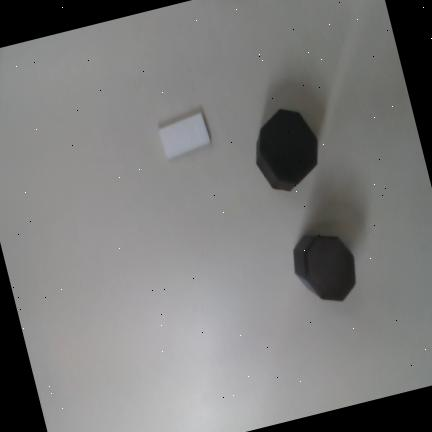Paralelepipedo: (157, 112, 210, 159)
Prisma_hexagonal: (256, 108, 318, 191), (293, 234, 356, 300)
